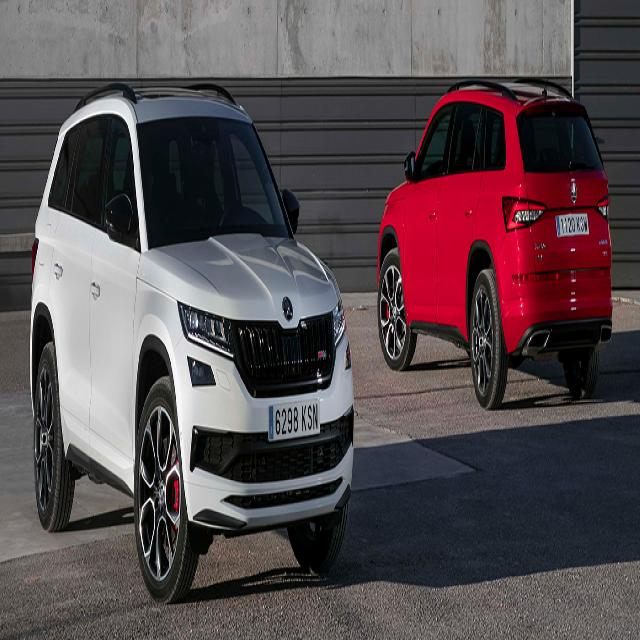License-Plate: (267, 398, 321, 438), (555, 209, 590, 239)
